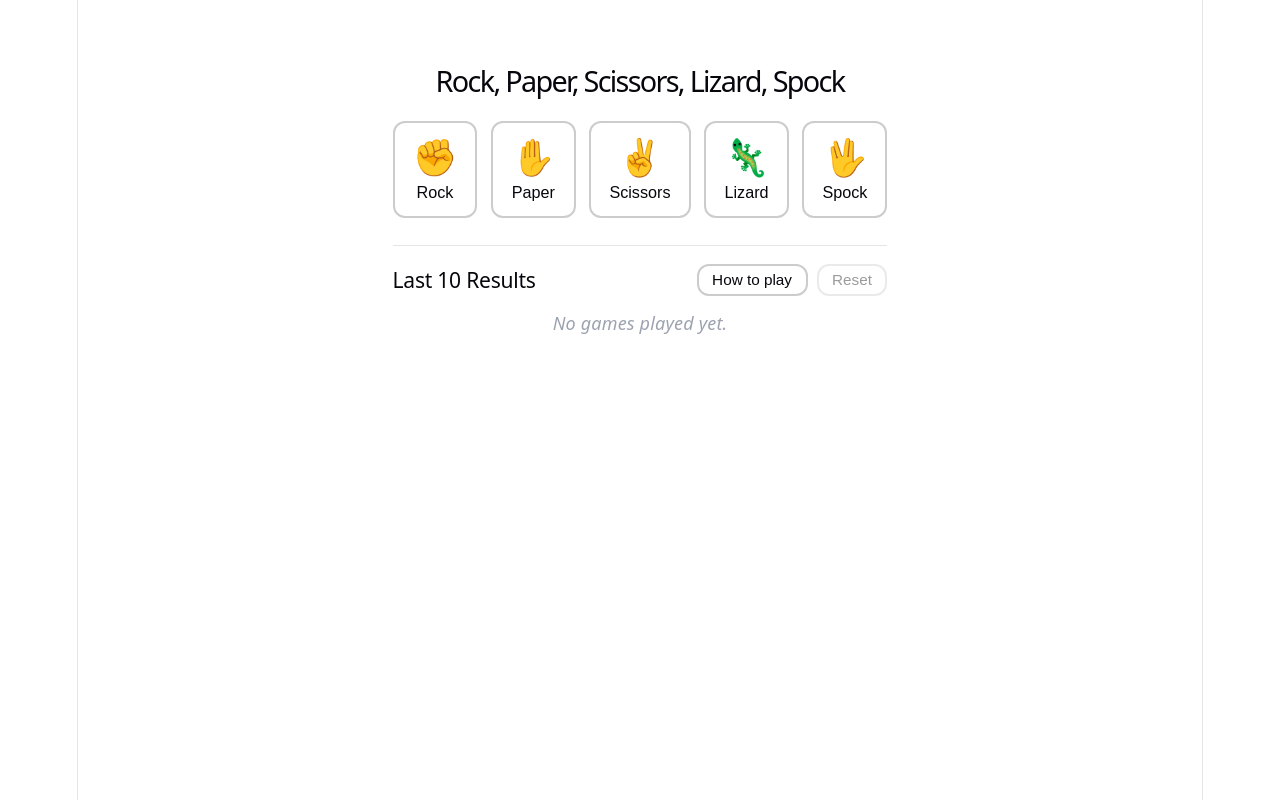
it: App — playing a round › shows the result card after clicking a choice
Click the text "rock".
click(435, 193)  # box x1=416 y1=183 x2=453 y2=202
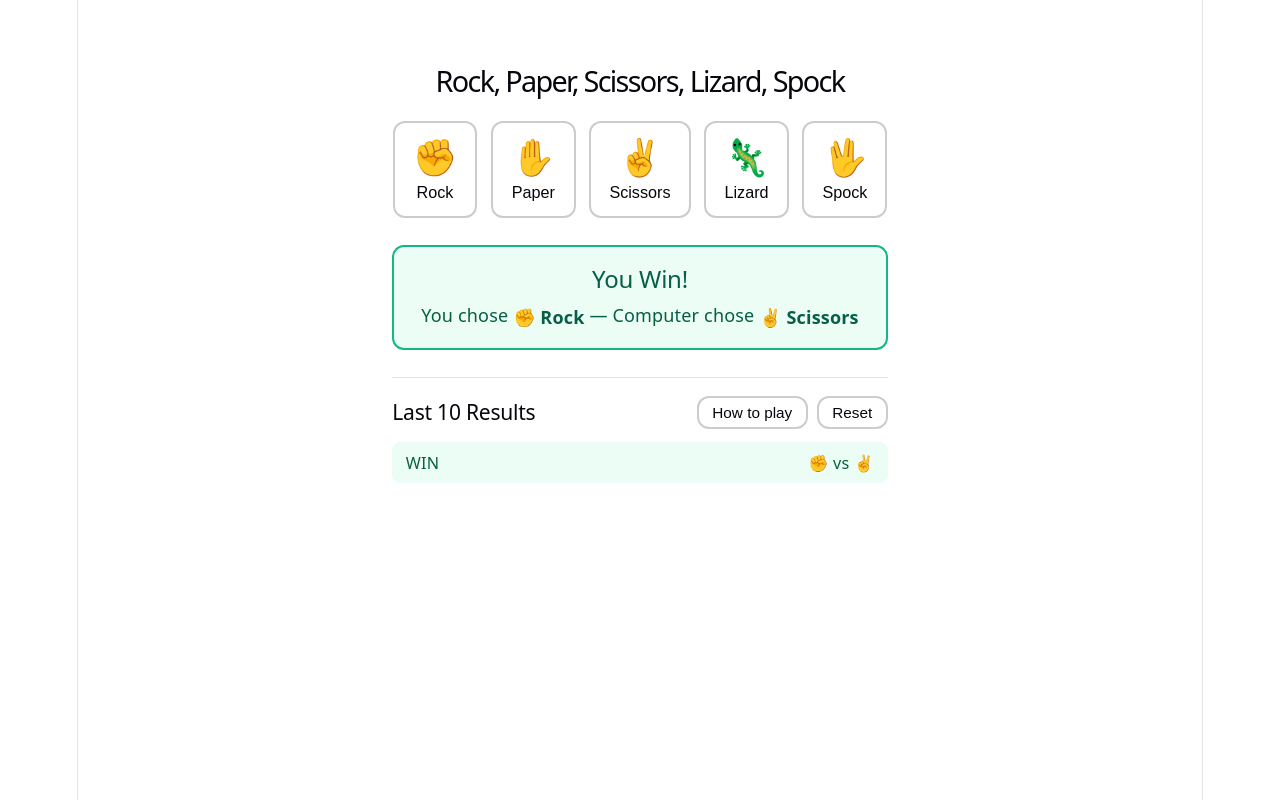
expect the heading "You Win!" is shown: met, box x1=592 y1=262 x2=688 y2=295
expect the text "You chose ✊ rock — Computer chose ✌️ scissors" is shown: met, box x1=421 y1=302 x2=859 y2=330
